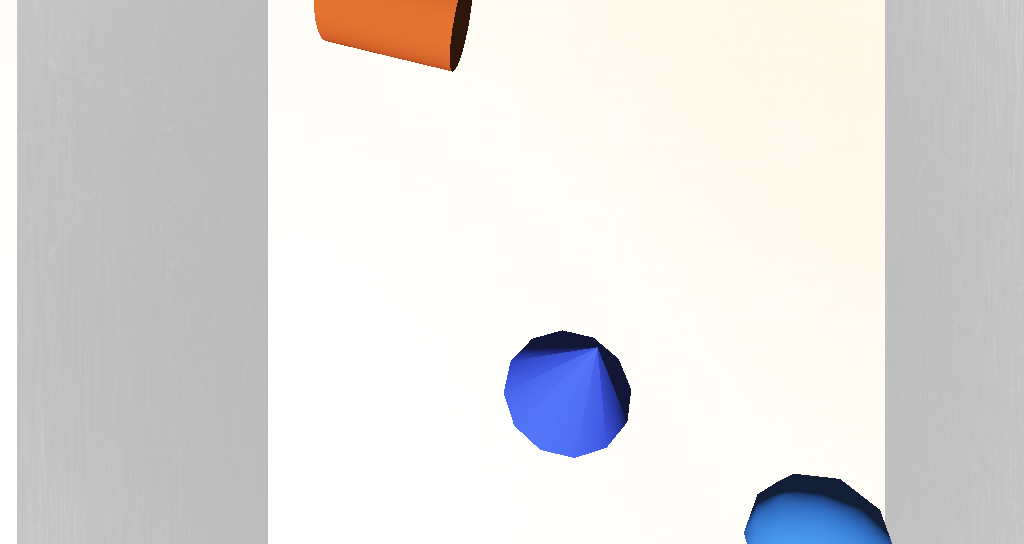cone: (377, 160, 458, 203)
cylinder: (468, 274, 542, 336)
sphere: (579, 336, 647, 379)
